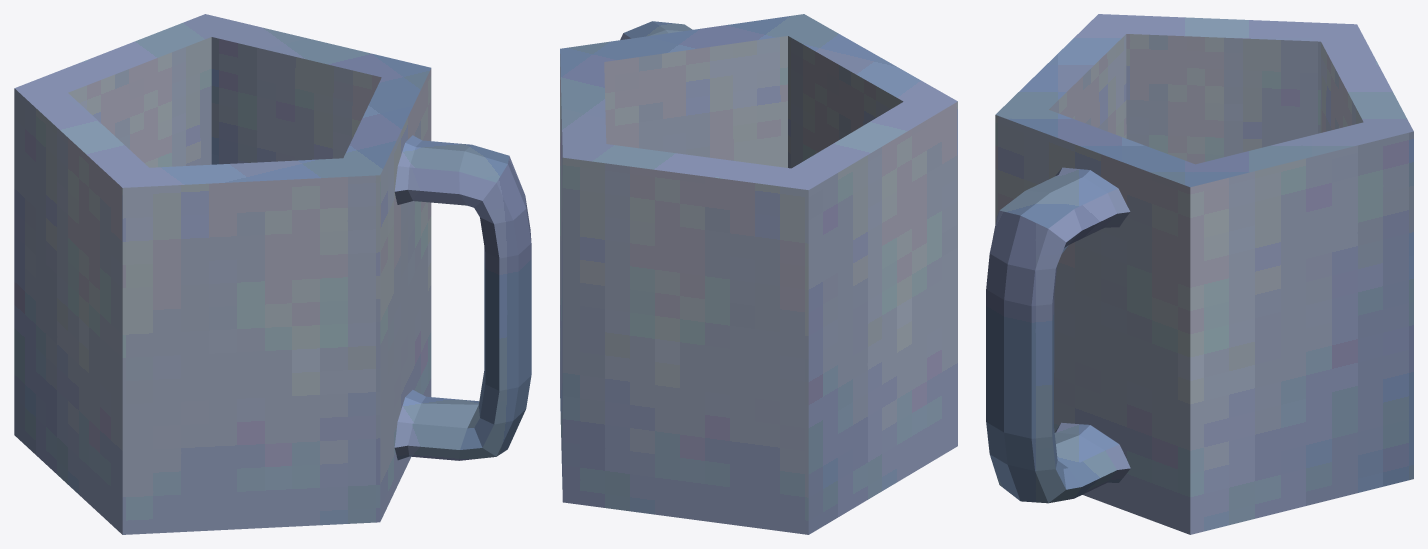
The model's file is mug_alt.obj.
3 renders of one model, left to right at view 1: azimuth 30°, elevation 25°; view 2: azimuth 150°, elevation 25°; view 3: azimuth 270°, elevation 25°, orthographic.
Visible parts, largest first — view 1: mug_alt; view 2: mug_alt; view 3: mug_alt.
Part boxes in pixels (x1=…): mug_alt: x1=14, y1=14, x2=531, y2=534; mug_alt: x1=560, y1=14, x2=957, y2=534; mug_alt: x1=986, y1=14, x2=1413, y2=534.
Bounding box in the file's own units: 0.139 × 0.123 × 0.1372.
